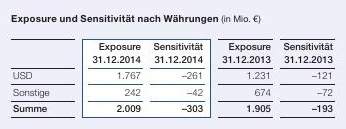table: (0, 0, 346, 129)
